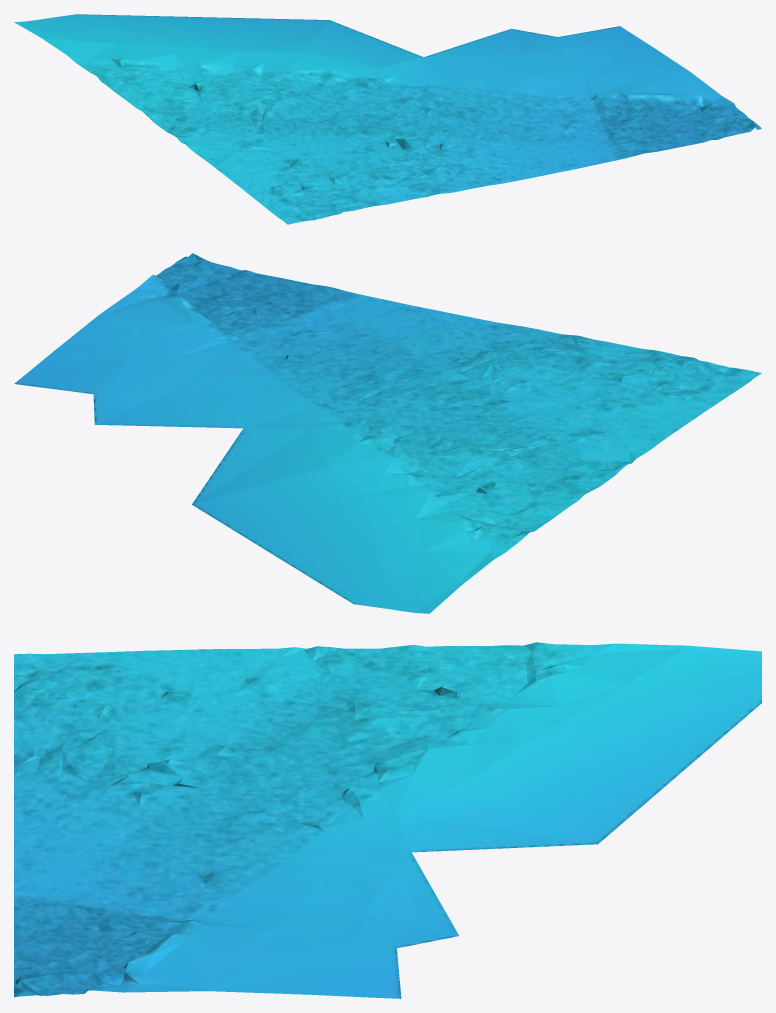
3 renders of one model, top to bottom at view 1: azimuth 30°, elevation 25°; view 2: azimuth 150°, elevation 25°; view 3: azimuth 270°, elevation 25°, orthographic. The views are drawn at different scales.
Size of the model in its own units: 13.06 by 0.8282 by 13.06.
Materials: 2 (2 with a texture image).
